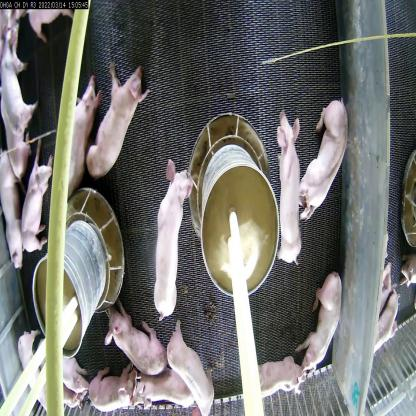Pig: (89, 40, 155, 180), (152, 134, 194, 319), (297, 88, 350, 230), (99, 280, 165, 378), (296, 242, 342, 380), (270, 99, 302, 271), (166, 308, 217, 415), (65, 60, 101, 195), (19, 135, 57, 251), (257, 342, 304, 404), (88, 367, 140, 413)
